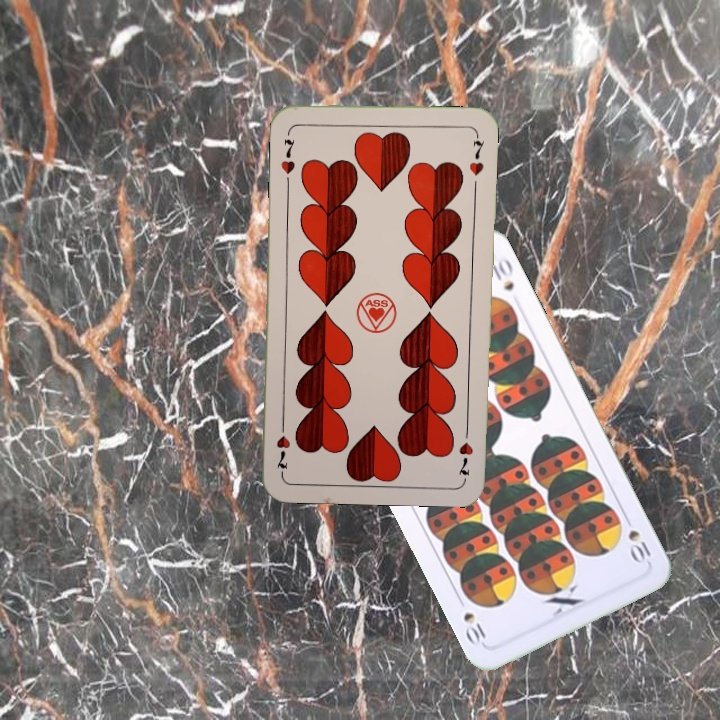H7: (454, 422, 476, 481), (277, 135, 298, 176)
S10: (620, 510, 654, 566)
